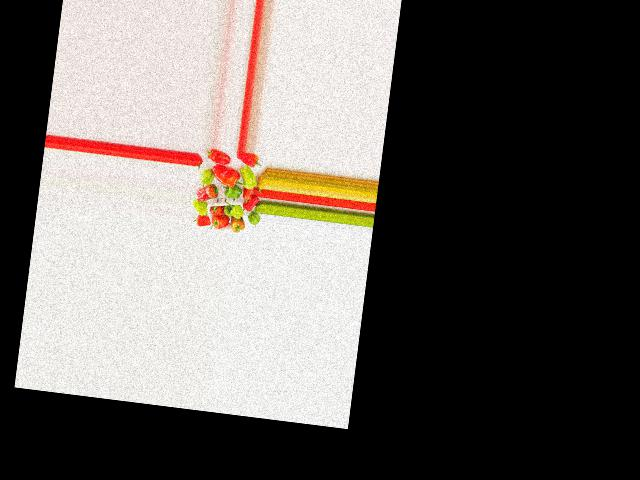bell_pepper: (238, 151, 263, 170)
